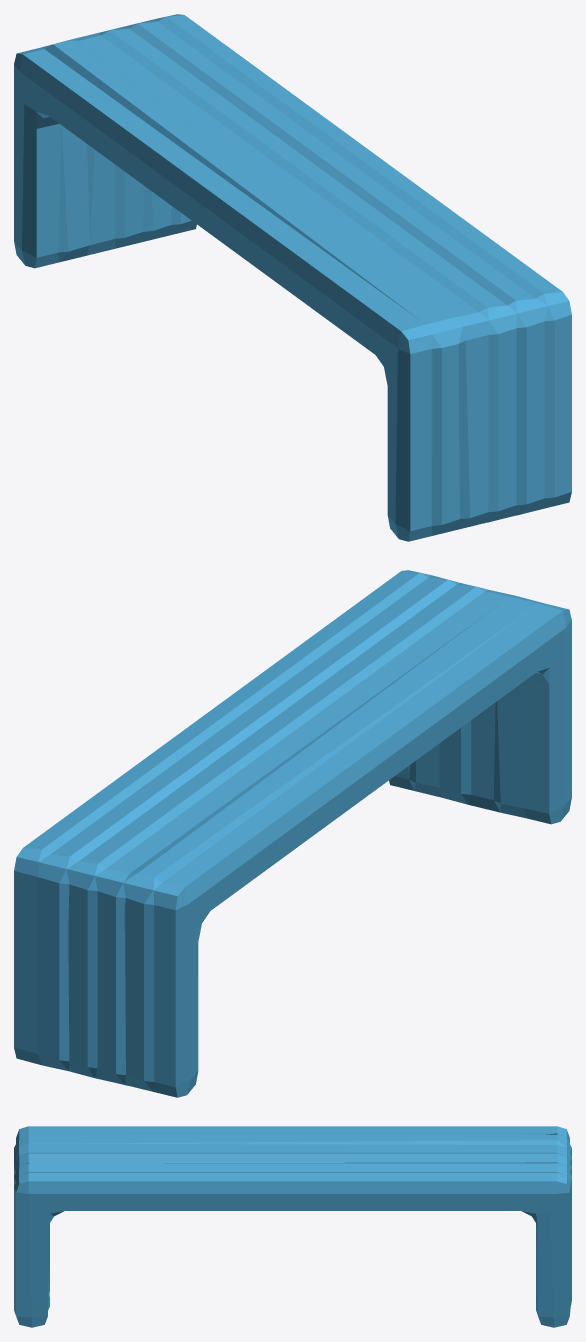
The model's file is benchBus.fbx.
3 views of the same model, one above another, from view 1: azimuth 30°, elevation 25°; view 2: azimuth 150°, elevation 25°; view 3: azimuth 270°, elevation 25° (orthographic). The views are drawn at different scales.
Visible parts, largest first — view 1: benchBus; view 2: benchBus; view 3: benchBus.
Part boxes in pixels (<box>): benchBus: <box>14,14,571,541</box>; benchBus: <box>14,570,571,1097</box>; benchBus: <box>14,1126,571,1327</box>.
Size of the model in its own units: 119 by 146 by 490.
